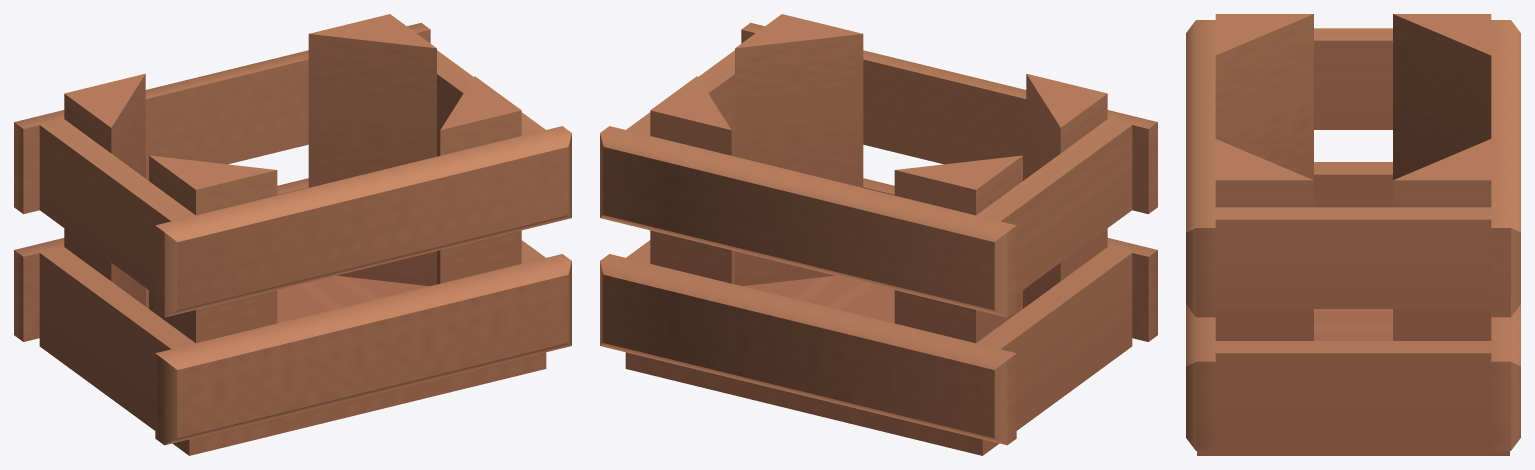
File: Food_Crate_Small_Empty.gltf
3 renders of one model, left to right at view 1: azimuth 30°, elevation 25°; view 2: azimuth 150°, elevation 25°; view 3: azimuth 270°, elevation 25°, orthographic. The views are drawn at different scales.
Visible parts, largest first — view 1: Food_Crate_Small_Empty; view 2: Food_Crate_Small_Empty; view 3: Food_Crate_Small_Empty.
Boxes of the visible parts, x1,y1,x2,y2 form: Food_Crate_Small_Empty: (14,14,571,455); Food_Crate_Small_Empty: (600,14,1157,455); Food_Crate_Small_Empty: (1186,14,1520,455).
Bounding box in the file's own units: 0.5546 × 0.3328 × 0.3772.
1 material, 1 textured.
